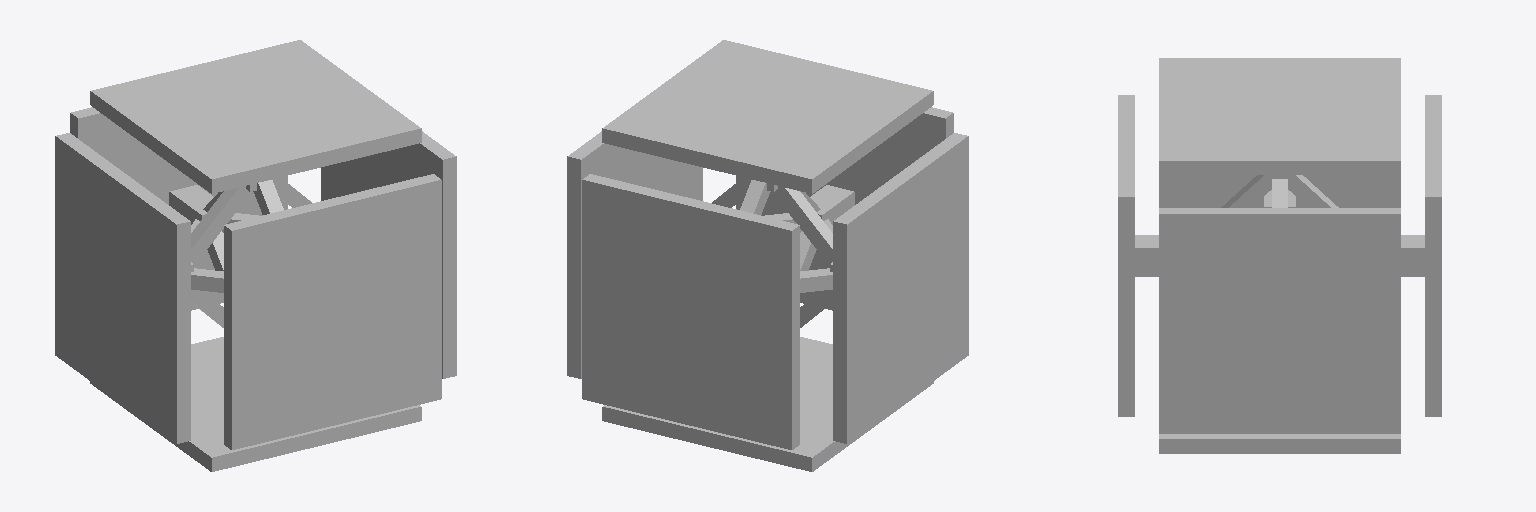
Rendered from PlateCube.obj.
3 renders of one model, left to right at view 1: azimuth 30°, elevation 25°; view 2: azimuth 150°, elevation 25°; view 3: azimuth 270°, elevation 25°, orthographic.
Visible parts, largest first — view 1: Cube_Cube.009; view 2: Cube_Cube.009; view 3: Cube_Cube.009.
Boxes of the visible parts, box(x1,y1,x2,y2) form: Cube_Cube.009: box(55, 40, 456, 471); Cube_Cube.009: box(567, 40, 968, 471); Cube_Cube.009: box(1118, 58, 1441, 453).
Size of the model in its own units: 2 by 2 by 2.